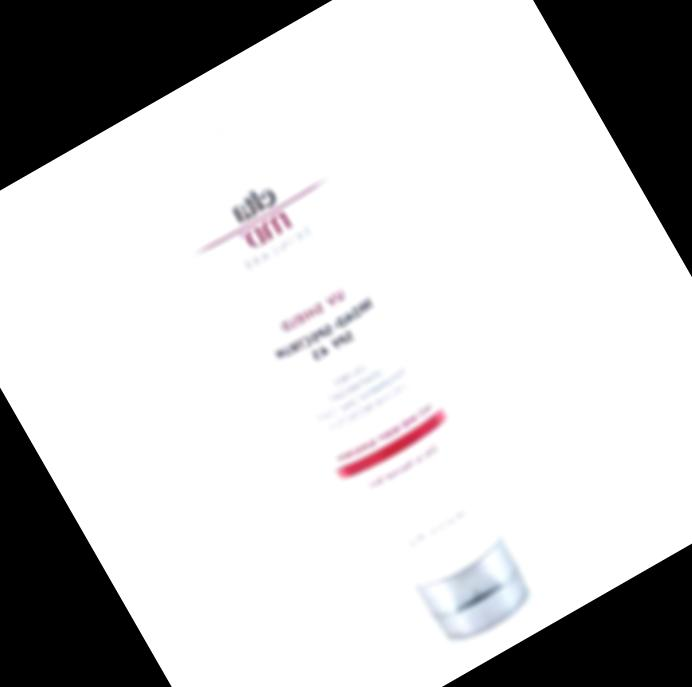cosmetic: (120, 69, 577, 674)
